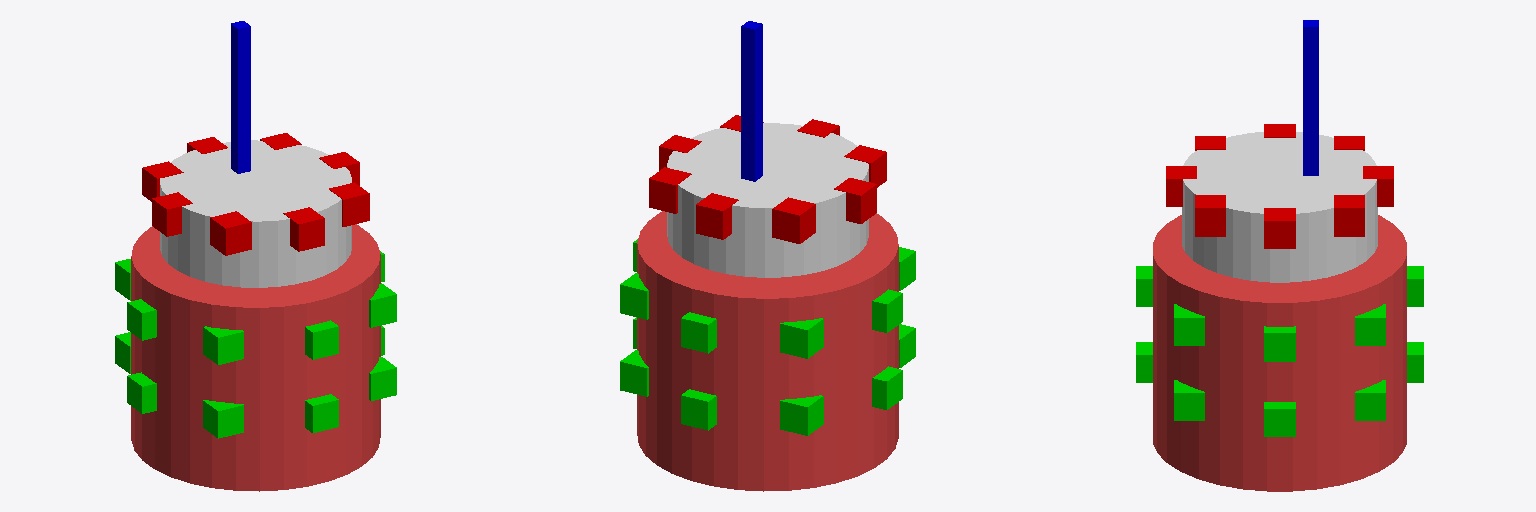
robot.urdf — random_bottle:
<?xml version="1.0"?>
<robot name="random_bottle">

  <!-- Define the cap link -->
  <link name="link1">
    <visual>
      <geometry>
        <mesh filename="cap.obj" scale="1.0 1.0 1.0"/>
      </geometry>
       <material name="white">
        <color rgba=".9 .9 .9 1"/>
      </material>

    </visual>
    <collision>
      <geometry>
        <mesh filename="cap.obj" scale="1.0 1.0 1.0"/>
      </geometry>
    </collision>

    <inertial>
      <mass value="0.018501170241011937"/> <!-- You can adjust the mass as needed -->
      <origin rpy="0 0 0" xyz="0 0 0"/>
      <inertia ixx="5.582129216003566e-06" ixy="0.0" ixz="0.0" iyy="5.582129216003566e-06" iyz="0.0" izz="9.360538541733696e-06"/>
    </inertial>
  </link>

    <link name="l10">
    <visual>
      <geometry>
        <box size="0.01 0.01 0.01"/>
      </geometry>

      <material name="red">
        <color rgba="0.9 0.0 0.0 1"/>
      </material>

    </visual>

    <inertial>
      <mass value="0.0001"/> <!-- You can adjust the mass as needed -->
      <origin rpy="0 0 0" xyz="0 0 -0.00"/> <!-- Offset by half of link1's height + 0.03m for the margin -->
      <inertia ixx="0.000000003" ixy="0.0" ixz="0.0" iyy="0.0000003" iyz="0.0" izz="0.00000003"/>
    </inertial>

  </link>
  <link name="l11">
    <visual>
      <geometry>
        <box size="0.01 0.01 0.01"/>
      </geometry>

      <material name="red">
        <color rgba="0.9 0.0 0.0 1"/>
      </material>

    </visual>

    <inertial>
      <mass value="0.0001"/> <!-- You can adjust the mass as needed -->
      <origin rpy="0 0 0" xyz="0 0 -0.00"/> <!-- Offset by half of link1's height + 0.03m for the margin -->
      <inertia ixx="0.000000003" ixy="0.0" ixz="0.0" iyy="0.0000003" iyz="0.0" izz="0.00000003"/>
    </inertial>

  </link>
  <link name="l12">
    <visual>
      <geometry>
        <box size="0.01 0.01 0.01"/>
      </geometry>

      <material name="red">
        <color rgba="0.9 0.0 0.0 1"/>
      </material>

    </visual>

    <inertial>
      <mass value="0.0001"/> <!-- You can adjust the mass as needed -->
      <origin rpy="0 0 0" xyz="0 0 -0.00"/> <!-- Offset by half of link1's height + 0.03m for the margin -->
      <inertia ixx="0.000000003" ixy="0.0" ixz="0.0" iyy="0.0000003" iyz="0.0" izz="0.00000003"/>
    </inertial>

  </link>
  <link name="l13">
    <visual>
      <geometry>
        <box size="0.01 0.01 0.01"/>
      </geometry>

      <material name="red">
        <color rgba="0.9 0.0 0.0 1"/>
      </material>

    </visual>

    <inertial>
      <mass value="0.0001"/> <!-- You can adjust the mass as needed -->
      <origin rpy="0 0 0" xyz="0 0 -0.00"/> <!-- Offset by half of link1's height + 0.03m for the margin -->
      <inertia ixx="0.000000003" ixy="0.0" ixz="0.0" iyy="0.0000003" iyz="0.0" izz="0.00000003"/>
    </inertial>

  </link>
  <link name="l10b">
    <visual>
      <geometry>
        <box size="0.01 0.01 0.01"/>
      </geometry>

      <material name="red">
        <color rgba="0.9 0.0 0.0 1"/>
      </material>

    </visual>

    <inertial>
      <mass value="0.0001"/> <!-- You can adjust the mass as needed -->
      <origin rpy="0 0 0" xyz="0 0 -0.00"/> <!-- Offset by half of link1's height + 0.03m for the margin -->
      <inertia ixx="0.000000003" ixy="0.0" ixz="0.0" iyy="0.0000003" iyz="0.0" izz="0.00000003"/>
    </inertial>

  </link>
  <link name="l11b">
    <visual>
      <geometry>
        <box size="0.01 0.01 0.01"/>
      </geometry>

      <material name="red">
        <color rgba="0.9 0.0 0.0 1"/>
      </material>

    </visual>

    <inertial>
      <mass value="0.0001"/> <!-- You can adjust the mass as needed -->
      <origin rpy="0 0 0" xyz="0 0 -0.00"/> <!-- Offset by half of link1's height + 0.03m for the margin -->
      <inertia ixx="0.000000003" ixy="0.0" ixz="0.0" iyy="0.0000003" iyz="0.0" izz="0.00000003"/>
    </inertial>

  </link>
  <link name="l12b">
    <visual>
      <geometry>
        <box size="0.01 0.01 0.01"/>
      </geometry>

      <material name="red">
        <color rgba="0.9 0.0 0.0 1"/>
      </material>

    </visual>

    <inertial>
      <mass value="0.0001"/> <!-- You can adjust the mass as needed -->
      <origin rpy="0 0 0" xyz="0 0 -0.00"/> <!-- Offset by half of link1's height + 0.03m for the margin -->
      <inertia ixx="0.000000003" ixy="0.0" ixz="0.0" iyy="0.0000003" iyz="0.0" izz="0.00000003"/>
    </inertial>

  </link>
  <link name="l13b">
    <visual>
      <geometry>
        <box size="0.01 0.01 0.01"/>
      </geometry>

      <material name="red">
        <color rgba="0.9 0.0 0.0 1"/>
      </material>

    </visual>

    <inertial>
      <mass value="0.0001"/> <!-- You can adjust the mass as needed -->
      <origin rpy="0 0 0" xyz="0 0 -0.00"/> <!-- Offset by half of link1's height + 0.03m for the margin -->
      <inertia ixx="0.000000003" ixy="0.0" ixz="0.0" iyy="0.0000003" iyz="0.0" izz="0.00000003"/>
    </inertial>

  </link>
  <link name="l20">
    <visual>
      <geometry>
        <box size="0.01 0.01 0.01"/>
      </geometry>

      <material name="red">
        <color rgba="0.0 0.9 0.0 1"/>
      </material>

    </visual>

    <inertial>
      <mass value="0.0001"/> <!-- You can adjust the mass as needed -->
      <origin rpy="0 0 0" xyz="0 0 -0.00"/> <!-- Offset by half of link1's height + 0.03m for the margin -->
      <inertia ixx="0.000000003" ixy="0.0" ixz="0.0" iyy="0.0000003" iyz="0.0" izz="0.00000003"/>
    </inertial>

  </link>
  <link name="l21">
    <visual>
      <geometry>
        <box size="0.01 0.01 0.01"/>
      </geometry>

      <material name="red">
        <color rgba="0.0 0.9 0.0 1"/>
      </material>

    </visual>

    <inertial>
      <mass value="0.0001"/> <!-- You can adjust the mass as needed -->
      <origin rpy="0 0 0" xyz="0 0 -0.00"/> <!-- Offset by half of link1's height + 0.03m for the margin -->
      <inertia ixx="0.000000003" ixy="0.0" ixz="0.0" iyy="0.0000003" iyz="0.0" izz="0.00000003"/>
    </inertial>

  </link>
  <link name="l22">
    <visual>
      <geometry>
        <box size="0.01 0.01 0.01"/>
      </geometry>

      <material name="red">
        <color rgba="0.0 0.9 0.0 1"/>
      </material>

    </visual>

    <inertial>
      <mass value="0.0001"/> <!-- You can adjust the mass as needed -->
      <origin rpy="0 0 0" xyz="0 0 -0.00"/> <!-- Offset by half of link1's height + 0.03m for the margin -->
      <inertia ixx="0.000000003" ixy="0.0" ixz="0.0" iyy="0.0000003" iyz="0.0" izz="0.00000003"/>
    </inertial>

  </link>
  <link name="l23">
    <visual>
      <geometry>
        <box size="0.01 0.01 0.01"/>
      </geometry>

      <material name="red">
        <color rgba="0.0 0.9 0.0 1"/>
      </material>

    </visual>

    <inertial>
      <mass value="0.0001"/> <!-- You can adjust the mass as needed -->
      <origin rpy="0 0 0" xyz="0 0 -0.00"/> <!-- Offset by half of link1's height + 0.03m for the margin -->
      <inertia ixx="0.000000003" ixy="0.0" ixz="0.0" iyy="0.0000003" iyz="0.0" izz="0.00000003"/>
    </inertial>

  </link>
  <link name="l24">
    <visual>
      <geometry>
        <box size="0.01 0.01 0.01"/>
      </geometry>

      <material name="red">
        <color rgba="0.0 0.9 0.0 1"/>
      </material>

    </visual>

    <inertial>
      <mass value="0.0001"/> <!-- You can adjust the mass as needed -->
      <origin rpy="0 0 0" xyz="0 0 -0.00"/> <!-- Offset by half of link1's height + 0.03m for the margin -->
      <inertia ixx="0.000000003" ixy="0.0" ixz="0.0" iyy="0.0000003" iyz="0.0" izz="0.00000003"/>
    </inertial>

  </link>
  <link name="l25">
    <visual>
      <geometry>
        <box size="0.01 0.01 0.01"/>
      </geometry>

      <material name="red">
        <color rgba="0.0 0.9 0.0 1"/>
      </material>

    </visual>

    <inertial>
      <mass value="0.0001"/> <!-- You can adjust the mass as needed -->
      <origin rpy="0 0 0" xyz="0 0 -0.00"/> <!-- Offset by half of link1's height + 0.03m for the margin -->
      <inertia ixx="0.000000003" ixy="0.0" ixz="0.0" iyy="0.0000003" iyz="0.0" izz="0.00000003"/>
    </inertial>

  </link>
  <link name="l26">
    <visual>
      <geometry>
        <box size="0.01 0.01 0.01"/>
      </geometry>

      <material name="red">
        <color rgba="0.0 0.9 0.0 1"/>
      </material>

    </visual>

    <inertial>
      <mass value="0.0001"/> <!-- You can adjust the mass as needed -->
      <origin rpy="0 0 0" xyz="0 0 -0.00"/> <!-- Offset by half of link1's height + 0.03m for the margin -->
      <inertia ixx="0.000000003" ixy="0.0" ixz="0.0" iyy="0.0000003" iyz="0.0" izz="0.00000003"/>
    </inertial>

  </link>
  <link name="l27">
    <visual>
      <geometry>
        <box size="0.01 0.01 0.01"/>
      </geometry>

      <material name="red">
        <color rgba="0.0 0.9 0.0 1"/>
      </material>

    </visual>

    <inertial>
      <mass value="0.0001"/> <!-- You can adjust the mass as needed -->
      <origin rpy="0 0 0" xyz="0 0 -0.00"/> <!-- Offset by half of link1's height + 0.03m for the margin -->
      <inertia ixx="0.000000003" ixy="0.0" ixz="0.0" iyy="0.0000003" iyz="0.0" izz="0.00000003"/>
    </inertial>

  </link>
  <link name="l30">
    <visual>
      <geometry>
        <box size="0.01 0.01 0.01"/>
      </geometry>

      <material name="red">
        <color rgba="0.0 0.9 0.0 1"/>
      </material>

    </visual>

    <inertial>
      <mass value="0.0001"/> <!-- You can adjust the mass as needed -->
      <origin rpy="0 0 0" xyz="0 0 -0.00"/> <!-- Offset by half of link1's height + 0.03m for the margin -->
      <inertia ixx="0.000000003" ixy="0.0" ixz="0.0" iyy="0.0000003" iyz="0.0" izz="0.00000003"/>
    </inertial>

  </link>
  <link name="l31">
    <visual>
      <geometry>
        <box size="0.01 0.01 0.01"/>
      </geometry>

      <material name="red">
        <color rgba="0.0 0.9 0.0 1"/>
      </material>

    </visual>

    <inertial>
      <mass value="0.0001"/> <!-- You can adjust the mass as needed -->
      <origin rpy="0 0 0" xyz="0 0 -0.00"/> <!-- Offset by half of link1's height + 0.03m for the margin -->
      <inertia ixx="0.000000003" ixy="0.0" ixz="0.0" iyy="0.0000003" iyz="0.0" izz="0.00000003"/>
    </inertial>

  </link>
  <link name="l32">
    <visual>
      <geometry>
        <box size="0.01 0.01 0.01"/>
      </geometry>

      <material name="red">
        <color rgba="0.0 0.9 0.0 1"/>
      </material>

    </visual>

    <inertial>
      <mass value="0.0001"/> <!-- You can adjust the mass as needed -->
      <origin rpy="0 0 0" xyz="0 0 -0.00"/> <!-- Offset by half of link1's height + 0.03m for the margin -->
      <inertia ixx="0.000000003" ixy="0.0" ixz="0.0" iyy="0.0000003" iyz="0.0" izz="0.00000003"/>
    </inertial>

  </link>
  <link name="l33">
    <visual>
      <geometry>
        <box size="0.01 0.01 0.01"/>
      </geometry>

      <material name="red">
        <color rgba="0.0 0.9 0.0 1"/>
      </material>

    </visual>

    <inertial>
      <mass value="0.0001"/> <!-- You can adjust the mass as needed -->
      <origin rpy="0 0 0" xyz="0 0 -0.00"/> <!-- Offset by half of link1's height + 0.03m for the margin -->
      <inertia ixx="0.000000003" ixy="0.0" ixz="0.0" iyy="0.0000003" iyz="0.0" izz="0.00000003"/>
    </inertial>

  </link>
  <link name="l34">
    <visual>
      <geometry>
        <box size="0.01 0.01 0.01"/>
      </geometry>

      <material name="red">
        <color rgba="0.0 0.9 0.0 1"/>
      </material>

    </visual>

    <inertial>
      <mass value="0.0001"/> <!-- You can adjust the mass as needed -->
      <origin rpy="0 0 0" xyz="0 0 -0.00"/> <!-- Offset by half of link1's height + 0.03m for the margin -->
      <inertia ixx="0.000000003" ixy="0.0" ixz="0.0" iyy="0.0000003" iyz="0.0" izz="0.00000003"/>
    </inertial>

  </link>
  <link name="l35">
    <visual>
      <geometry>
        <box size="0.01 0.01 0.01"/>
      </geometry>

      <material name="red">
        <color rgba="0.0 0.9 0.0 1"/>
      </material>

    </visual>

    <inertial>
      <mass value="0.0001"/> <!-- You can adjust the mass as needed -->
      <origin rpy="0 0 0" xyz="0 0 -0.00"/> <!-- Offset by half of link1's height + 0.03m for the margin -->
      <inertia ixx="0.000000003" ixy="0.0" ixz="0.0" iyy="0.0000003" iyz="0.0" izz="0.00000003"/>
    </inertial>

  </link>
  <link name="l36">
    <visual>
      <geometry>
        <box size="0.01 0.01 0.01"/>
      </geometry>

      <material name="red">
        <color rgba="0.0 0.9 0.0 1"/>
      </material>

    </visual>

    <inertial>
      <mass value="0.0001"/> <!-- You can adjust the mass as needed -->
      <origin rpy="0 0 0" xyz="0 0 -0.00"/> <!-- Offset by half of link1's height + 0.03m for the margin -->
      <inertia ixx="0.000000003" ixy="0.0" ixz="0.0" iyy="0.0000003" iyz="0.0" izz="0.00000003"/>
    </inertial>

  </link>
  <link name="l37">
    <visual>
      <geometry>
        <box size="0.01 0.01 0.01"/>
      </geometry>

      <material name="red">
        <color rgba="0.0 0.9 0.0 1"/>
      </material>

    </visual>

    <inertial>
      <mass value="0.0001"/> <!-- You can adjust the mass as needed -->
      <origin rpy="0 0 0" xyz="0 0 -0.00"/> <!-- Offset by half of link1's height + 0.03m for the margin -->
      <inertia ixx="0.000000003" ixy="0.0" ixz="0.0" iyy="0.0000003" iyz="0.0" izz="0.00000003"/>
    </inertial>

  </link>


  <link name="hint">
    <visual>
      <geometry>
        <box size="0.005 0.005 0.07"/> <!-- 9cm x 9cm x 6cm -->
      </geometry>
       <material name="blue">
        <color rgba=".0 .0 .9 1"/>
      </material>
    </visual>

    <inertial>
      <mass value="0.0001"/> <!-- You can adjust the mass as needed -->
      <origin rpy="0 0 0" xyz="0 0 -0.00"/> <!-- Offset by half of link1's height + 0.03m for the margin -->
      <inertia ixx="0.000000003" ixy="0.0" ixz="0.0" iyy="0.0000003" iyz="0.0" izz="0.00000003"/>
    </inertial>


  </link>

  <!-- Define the base link -->
  <link name="link2">
    <visual>
      <geometry>
        <mesh filename="base.obj" scale="1.0 1.0 1.0"/>
      </geometry>
      <material name="red">
        <color rgba=".9 .3 .3 1"/>
      </material>

    </visual>

    <collision>
      <geometry>
        <mesh filename="base.obj" scale="1.0 1.0 1.0"/>
      </geometry>
    </collision>

    <inertial>
      <mass value="0.04864425563621823"/> <!-- You can adjust the mass as needed -->
      <origin rpy="0 0 0" xyz="0 0 -0.00"/> <!-- Offset by half of link1's height + 0.03m for the margin -->
      <inertia ixx="3.881166024814171e-05" ixy="0.0" ixz="0.0" iyy="3.881166024814171e-05" iyz="0.0" izz="4.130855521682015e-05"/>
    </inertial>
  </link>



  <link name="brake">
   <visual>
      <geometry>
        <box size="0.02 0.02 0.005"/> <!-- 6cm x 6cm x 2cm -->
      </geometry>
       <material name="gray">
        <color rgba=".5 .5 .5 1"/>
      </material>

    </visual>
    <collision>
      <geometry>
        <box size="0.02 0.02 0.005"/> <!-- 6cm x 6cm x 2cm -->
      </geometry>
    </collision>

    <inertial>
      <mass value="0.005"/> <!-- You can adjust the mass as needed -->
      <origin rpy="0 0 0" xyz="0 0 0"/>
      <inertia ixx="0.00018" ixy="0.0" ixz="0.0" iyy="0.00018" iyz="0.0" izz="0.00018"/>
    </inertial>
  </link>

  <!-- Define the joint connecting link1 and link2 as a revolute joint along z-axis -->
  <joint name="fix_joint" type="fixed">
    <parent link="link1"/>
    <child link="hint"/>
    <origin rpy="0 0 0" xyz="0 0.01 0.03"/> <!-- Offset by half of link1's height for the margin -->
    <axis xyz="0 0 1"/>
  </joint>

  <!-- Define the joint connecting link1 and link2 as a revolute joint along z-axis -->
  <joint name="brake_joint" type="prismatic">
    <parent link="link2"/>
    <child link="brake"/>
    <origin rpy="0 0 0" xyz="0 0 0.05764931464839044"/> <!-- Offset by half of link1's height for the margin -->
    <axis xyz="0 0 1"/>
    <limit lower="-0.02" upper="0.02" />
    <!-- <dynamics damping="0.0" friction="0.0"/> -->
  </joint>


  <joint name="b_joint" type="revolute">
    <parent link="link2"/>
    <child link="link1"/>
    <origin rpy="0 0 0" xyz="0 0 0.048463508217280585"/> <!-- Offset by half of link1's height for the margin -->
    <axis xyz="0 0 1"/>
    <!-- No joint limits -->
    <dynamics damping="0.0" friction="0.0"/>
  </joint>


  <!-- marker -->
    <joint name="jl10" type="fixed">
    <parent link="link1"/>
    <child link="l10"/>
    <origin rpy="0 0 0" xyz="0.0 0.03181015725327837 0.007255741929332956"/> <!-- Offset by half of link1's height for the margin -->
    <axis xyz="0 0 1"/>
  </joint>
  <joint name="jl11" type="fixed">
    <parent link="link1"/>
    <child link="l11"/>
    <origin rpy="0 0 0" xyz="0.022493177603052385 0.02249317820575476 0.007255741929332956"/> <!-- Offset by half of link1's height for the margin -->
    <axis xyz="0 0 1"/>
  </joint>
  <joint name="jl12" type="fixed">
    <parent link="link1"/>
    <child link="l12"/>
    <origin rpy="0 0 0" xyz="0.031810157253278355 8.523498739550923e-10 0.007255741929332956"/> <!-- Offset by half of link1's height for the margin -->
    <axis xyz="0 0 1"/>
  </joint>
  <joint name="jl13" type="fixed">
    <parent link="link1"/>
    <child link="l13"/>
    <origin rpy="0 0 0" xyz="0.022493178808457116 -0.022493177000349997 0.007255741929332956"/> <!-- Offset by half of link1's height for the margin -->
    <axis xyz="0 0 1"/>
  </joint>
  <joint name="jl10b" type="fixed">
    <parent link="link1"/>
    <child link="l10b"/>
    <origin rpy="0 0 0" xyz="1.704699747910184e-09 -0.03181015725327832 0.007255741929332956"/> <!-- Offset by half of link1's height for the margin -->
    <axis xyz="0 0 1"/>
  </joint>
  <joint name="jl11b" type="fixed">
    <parent link="link1"/>
    <child link="l11b"/>
    <origin rpy="0 0 0" xyz="-0.02249317639764758 -0.02249317941115947 0.007255741929332956"/> <!-- Offset by half of link1's height for the margin -->
    <axis xyz="0 0 1"/>
  </joint>
  <joint name="jl12b" type="fixed">
    <parent link="link1"/>
    <child link="l12b"/>
    <origin rpy="0 0 0" xyz="-0.031810157253278265 -2.5570496077387274e-09 0.007255741929332956"/> <!-- Offset by half of link1's height for the margin -->
    <axis xyz="0 0 1"/>
  </joint>
  <joint name="jl13b" type="fixed">
    <parent link="link1"/>
    <child link="l13b"/>
    <origin rpy="0 0 0" xyz="-0.022493180013861785 0.022493175794945166 0.007255741929332956"/> <!-- Offset by half of link1's height for the margin -->
    <axis xyz="0 0 1"/>
  </joint>
  <joint name="jl20" type="fixed">
    <parent link="link2"/>
    <child link="l20"/>
    <origin rpy="0 0 0" xyz="0.0 0.04121157567615127 0.02007810493036835"/> <!-- Offset by half of link1's height for the margin -->
    <axis xyz="0 0 1"/>
  </joint>
  <joint name="jl21" type="fixed">
    <parent link="link2"/>
    <child link="l21"/>
    <origin rpy="0 0 0" xyz="0.029140984233574304 0.02914098501440397 0.02007810493036835"/> <!-- Offset by half of link1's height for the margin -->
    <axis xyz="0 0 1"/>
  </joint>
  <joint name="jl22" type="fixed">
    <parent link="link2"/>
    <child link="l22"/>
    <origin rpy="0 0 0" xyz="0.04121157567615125 1.1042599083485547e-09 0.02007810493036835"/> <!-- Offset by half of link1's height for the margin -->
    <axis xyz="0 0 1"/>
  </joint>
  <joint name="jl23" type="fixed">
    <parent link="link2"/>
    <child link="l23"/>
    <origin rpy="0 0 0" xyz="0.02914098579523361 -0.029140983452744615 0.02007810493036835"/> <!-- Offset by half of link1's height for the margin -->
    <axis xyz="0 0 1"/>
  </joint>
  <joint name="jl24" type="fixed">
    <parent link="link2"/>
    <child link="l24"/>
    <origin rpy="0 0 0" xyz="2.2085198166971085e-09 -0.041211575676151205 0.02007810493036835"/> <!-- Offset by half of link1's height for the margin -->
    <axis xyz="0 0 1"/>
  </joint>
  <joint name="jl25" type="fixed">
    <parent link="link2"/>
    <child link="l25"/>
    <origin rpy="0 0 0" xyz="-0.029140982671914895 -0.029140986576063253 0.02007810493036835"/> <!-- Offset by half of link1's height for the margin -->
    <axis xyz="0 0 1"/>
  </joint>
  <joint name="jl26" type="fixed">
    <parent link="link2"/>
    <child link="l26"/>
    <origin rpy="0 0 0" xyz="-0.041211575676151135 -3.312779706744045e-09 0.02007810493036835"/> <!-- Offset by half of link1's height for the margin -->
    <axis xyz="0 0 1"/>
  </joint>
  <joint name="jl27" type="fixed">
    <parent link="link2"/>
    <child link="l27"/>
    <origin rpy="0 0 0" xyz="-0.029140987356892845 0.029140981891085174 0.02007810493036835"/> <!-- Offset by half of link1's height for the margin -->
    <axis xyz="0 0 1"/>
  </joint>
  <joint name="jl30" type="fixed">
    <parent link="link2"/>
    <child link="l30"/>
    <origin rpy="0 0 0" xyz="0.0 0.04121157567615127 -0.006692701643456117"/> <!-- Offset by half of link1's height for the margin -->
    <axis xyz="0 0 1"/>
  </joint>
  <joint name="jl31" type="fixed">
    <parent link="link2"/>
    <child link="l31"/>
    <origin rpy="0 0 0" xyz="0.029140984233574304 0.02914098501440397 -0.006692701643456117"/> <!-- Offset by half of link1's height for the margin -->
    <axis xyz="0 0 1"/>
  </joint>
  <joint name="jl32" type="fixed">
    <parent link="link2"/>
    <child link="l32"/>
    <origin rpy="0 0 0" xyz="0.04121157567615125 1.1042599083485547e-09 -0.006692701643456117"/> <!-- Offset by half of link1's height for the margin -->
    <axis xyz="0 0 1"/>
  </joint>
  <joint name="jl33" type="fixed">
    <parent link="link2"/>
    <child link="l33"/>
    <origin rpy="0 0 0" xyz="0.02914098579523361 -0.029140983452744615 -0.006692701643456117"/> <!-- Offset by half of link1's height for the margin -->
    <axis xyz="0 0 1"/>
  </joint>
  <joint name="jl34" type="fixed">
    <parent link="link2"/>
    <child link="l34"/>
    <origin rpy="0 0 0" xyz="2.2085198166971085e-09 -0.041211575676151205 -0.006692701643456117"/> <!-- Offset by half of link1's height for the margin -->
    <axis xyz="0 0 1"/>
  </joint>
  <joint name="jl35" type="fixed">
    <parent link="link2"/>
    <child link="l35"/>
    <origin rpy="0 0 0" xyz="-0.029140982671914895 -0.029140986576063253 -0.006692701643456117"/> <!-- Offset by half of link1's height for the margin -->
    <axis xyz="0 0 1"/>
  </joint>
  <joint name="jl36" type="fixed">
    <parent link="link2"/>
    <child link="l36"/>
    <origin rpy="0 0 0" xyz="-0.041211575676151135 -3.312779706744045e-09 -0.006692701643456117"/> <!-- Offset by half of link1's height for the margin -->
    <axis xyz="0 0 1"/>
  </joint>
  <joint name="jl37" type="fixed">
    <parent link="link2"/>
    <child link="l37"/>
    <origin rpy="0 0 0" xyz="-0.029140987356892845 0.029140981891085174 -0.006692701643456117"/> <!-- Offset by half of link1's height for the margin -->
    <axis xyz="0 0 1"/>
  </joint>



</robot>

--- What the picture shows (computed from the rendered views, not written in the file) ---
The picture shows the robot from 3 angles, left to right: view 1: azimuth 30°, elevation 25°; view 2: azimuth 150°, elevation 25°; view 3: azimuth 270°, elevation 25°; orthographic projection.
Robot: random_bottle — 28 links, 27 joints (1 revolute, 1 prismatic, 25 fixed); root link link2; default pose: all joints at 0.
Links seen in each view (by area): view 1: link2, link1, hint, l11b, l10b, l25, l35, l12b, l13, l24, l34, l36 (+7 smaller); view 2: link2, link1, hint, l13b, l37, l27, l10, l12b, l11, l30, l20, l36 (+7 smaller); view 3: link2, link1, hint, l12, l11, l13, l22, l32, l21, l23, l31, l33 (+6 smaller).
Boxes of the visible links, box(x1,y1,x2,y2) form: link2: box(131, 224, 380, 491); link1: box(160, 140, 351, 287); hint: box(231, 21, 250, 173); l11b: box(210, 211, 251, 255); l10b: box(283, 207, 324, 251); l25: box(203, 326, 243, 364); l35: box(203, 400, 243, 438); l12b: box(152, 192, 192, 236); l13: box(329, 182, 369, 226); l24: box(305, 320, 338, 359); l34: box(305, 394, 338, 432); l36: box(127, 372, 156, 413); link2: box(637, 211, 898, 491); link1: box(667, 123, 868, 277); hint: box(741, 21, 762, 181); l13b: box(772, 197, 815, 243); l37: box(780, 395, 823, 435); l27: box(780, 318, 823, 358); l10: box(696, 193, 738, 239); l12b: box(834, 178, 876, 223); l11: box(649, 167, 691, 213); l30: box(681, 389, 716, 430); l20: box(681, 312, 716, 353); l36: box(872, 366, 902, 409); link2: box(1153, 215, 1406, 491); link1: box(1182, 132, 1377, 282); hint: box(1303, 20, 1318, 175); l12: box(1264, 208, 1295, 248); l11: box(1334, 195, 1364, 236); l13: box(1195, 195, 1225, 236); l22: box(1264, 326, 1295, 361); l32: box(1264, 402, 1295, 436); l21: box(1355, 304, 1385, 345); l23: box(1174, 304, 1204, 345); l31: box(1355, 380, 1385, 420); l33: box(1174, 380, 1204, 420).
Bounding box of the posed robot: 0.0924 × 0.0924 × 0.1469 m (x, y, z).
2 mesh visuals loaded from 2 distinct referenced files (2 OBJ).
